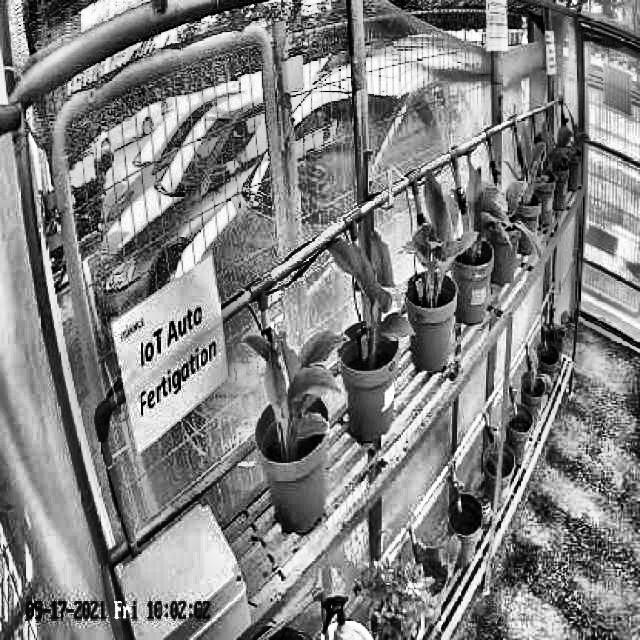plants: (243, 325, 349, 463), (327, 226, 416, 371), (398, 169, 478, 311), (464, 162, 514, 262)
